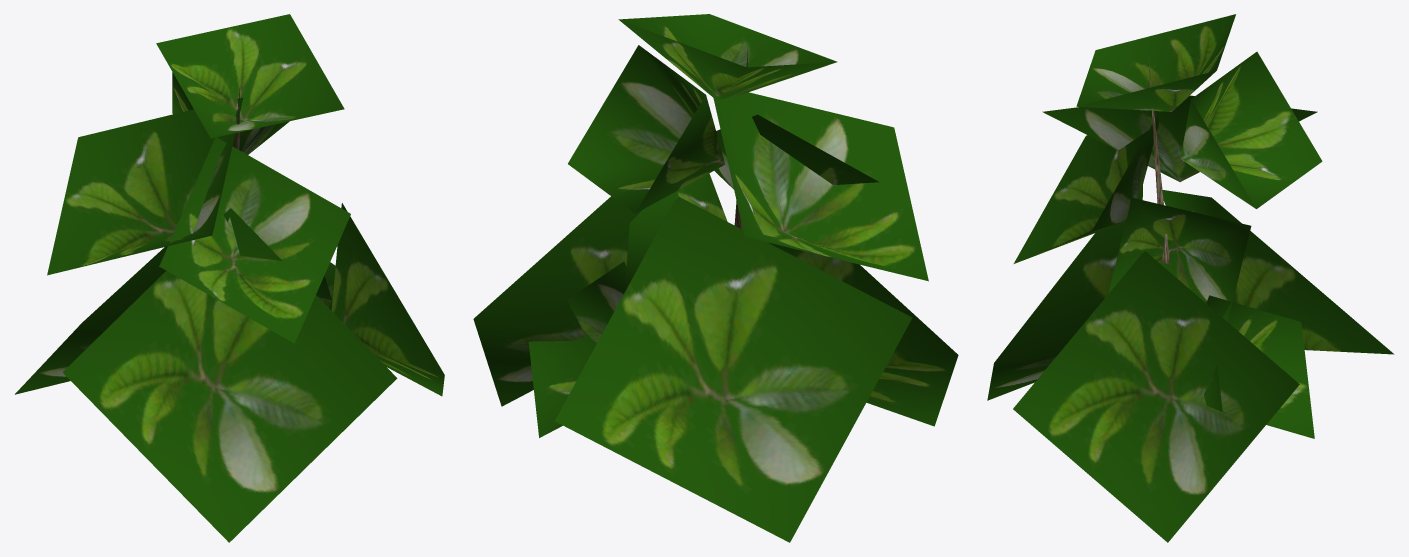
Rendered from leaf_palmbush_a2_l2.fbx.
3 views of the same model, side by side, from view 1: azimuth 30°, elevation 25°; view 2: azimuth 150°, elevation 25°; view 3: azimuth 270°, elevation 25° (orthographic). The views are drawn at different scales.
Parts seen in each view (by area): view 1: mesh_node; view 2: mesh_node; view 3: mesh_node.
Part boxes in pixels (bbox=[...]): mesh_node: bbox=[15, 14, 444, 542]; mesh_node: bbox=[473, 14, 958, 542]; mesh_node: bbox=[987, 14, 1394, 542].
Size of the model in its own units: 1.75 by 1.8 by 1.52.
Materials: 2 (2 with a texture image).
